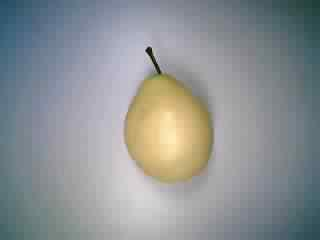pear: (108, 38, 223, 190)
